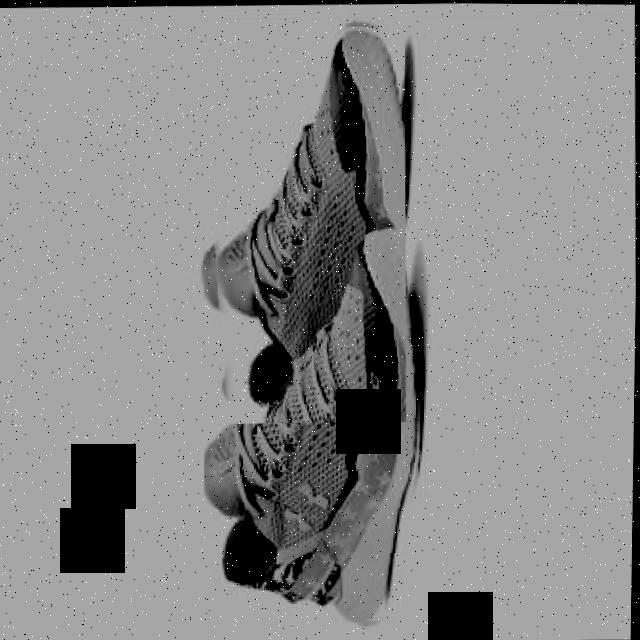shoe: (199, 215, 431, 627), (196, 16, 411, 424)
